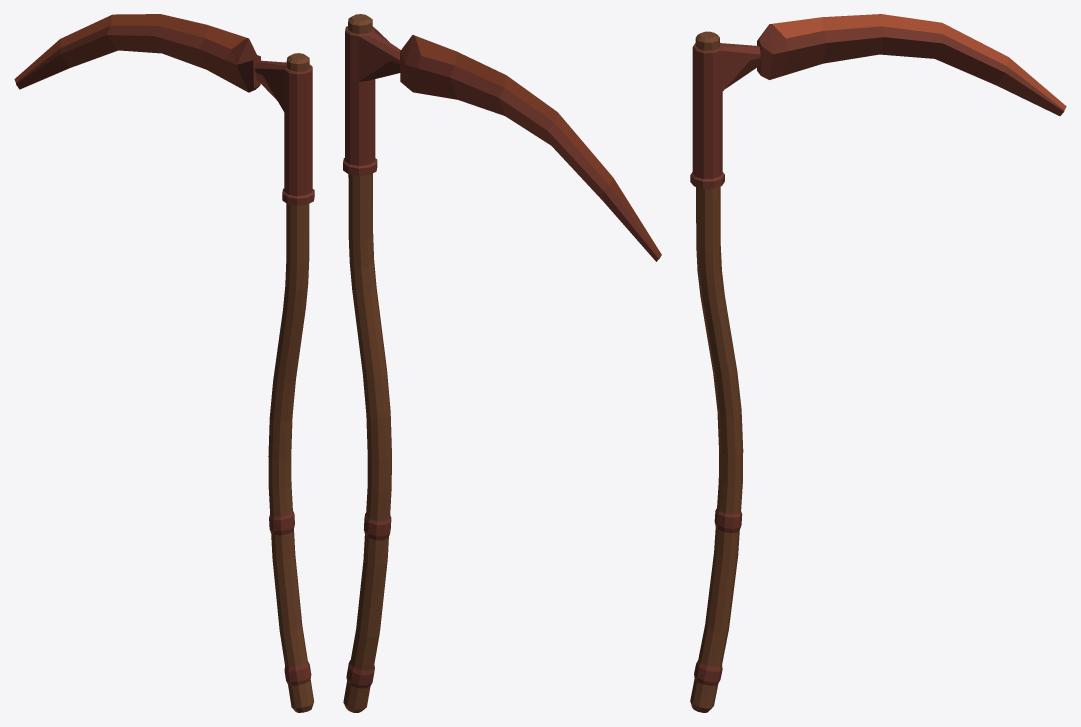
Rendered from scythe_copper.glb.
The picture shows the model from 3 angles, left to right: view 1: azimuth 30°, elevation 25°; view 2: azimuth 210°, elevation 25°; view 3: azimuth 270°, elevation 25°; orthographic projection. The views are drawn at different scales.
Parts seen in each view (by area): view 1: ScytheV12; view 2: ScytheV12; view 3: ScytheV12.
Boxes of the visible parts, x1=… form: ScytheV12: x1=14, y1=14, x2=314, y2=712; ScytheV12: x1=343, y1=14, x2=661, y2=712; ScytheV12: x1=690, y1=14, x2=1066, y2=712.
Bounding box in the file's own units: 0.2202 × 1.11 × 0.5596.
3 materials, 3 textured.
